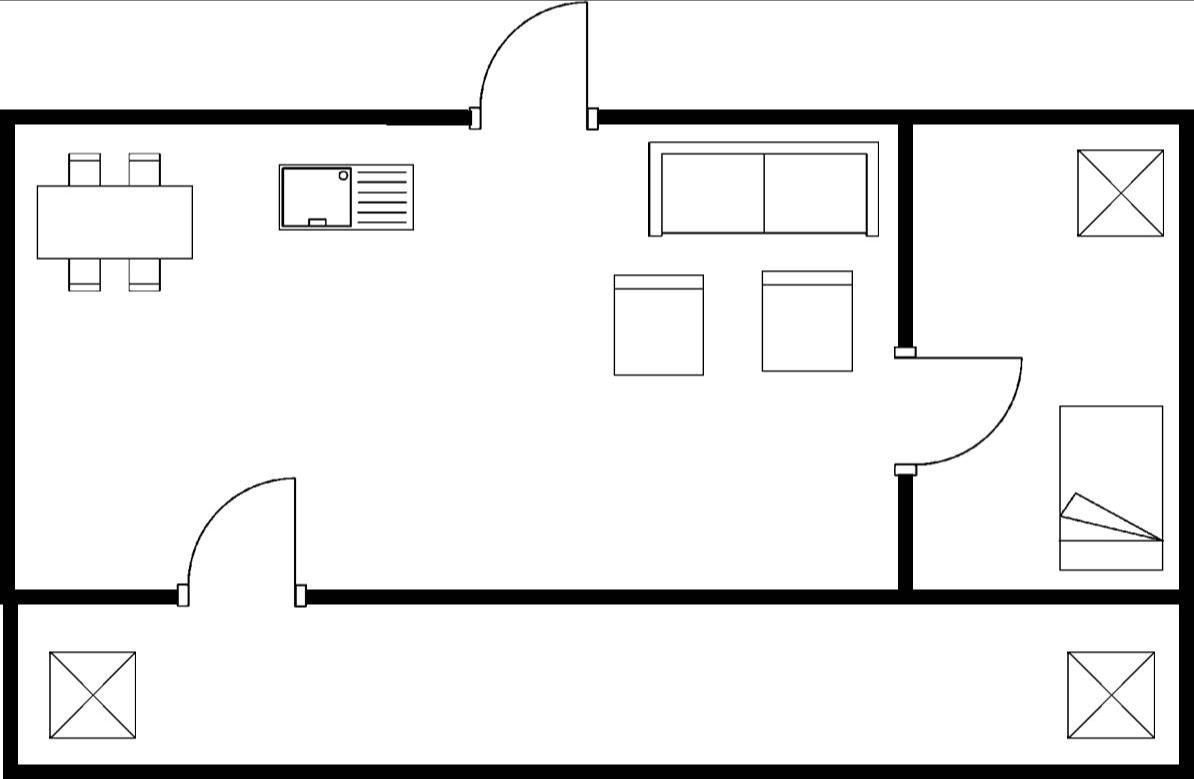bed: (1046, 396, 1168, 577)
dining_table: (30, 143, 200, 298)
sink: (272, 154, 424, 240)
sofa: (640, 132, 885, 245)
